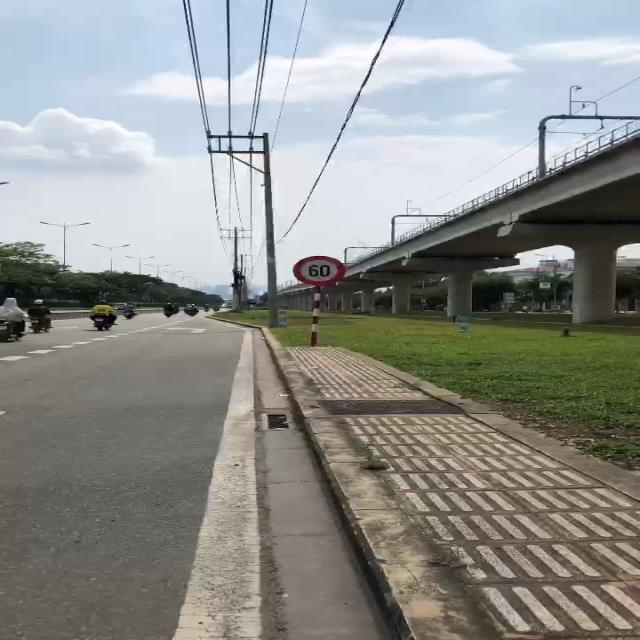Bien bao toc do toi da cho phep: (290, 251, 351, 290)
